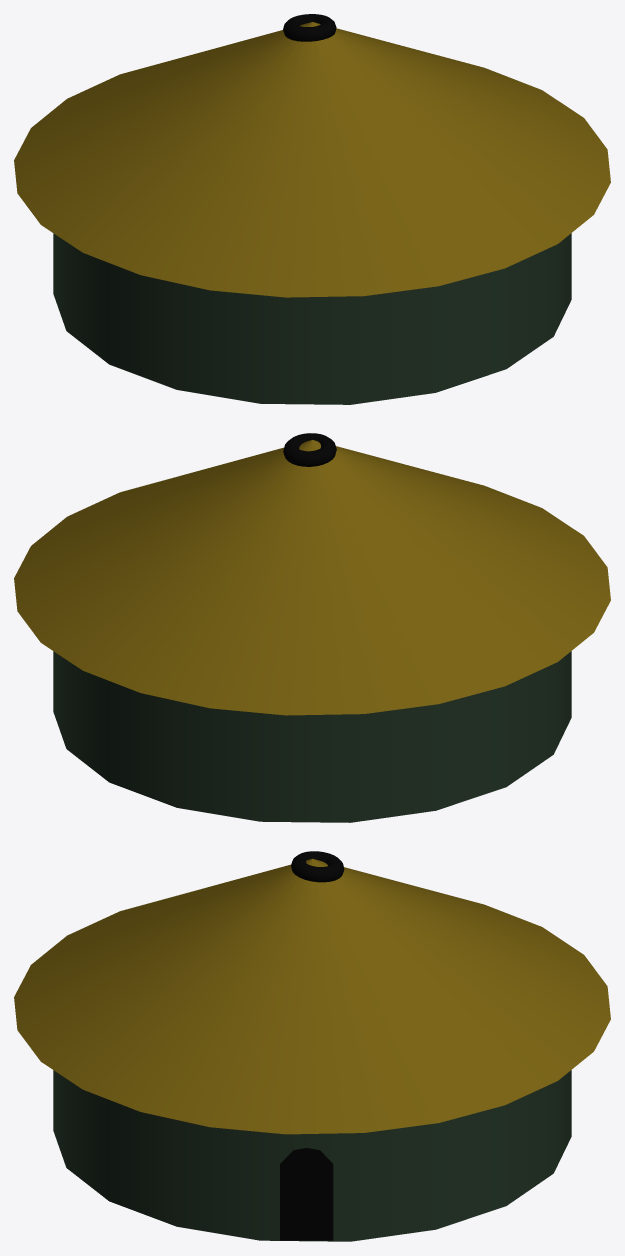
File: Round Hut.fbx
The picture shows the model from 3 angles, top to bottom: view 1: azimuth 30°, elevation 25°; view 2: azimuth 150°, elevation 25°; view 3: azimuth 270°, elevation 25°; orthographic projection.
Visible parts, largest first — view 1: Cone001, Cylinder001, Torus001; view 2: Cone001, Cylinder001, Torus001; view 3: Cone001, Cylinder001, Plane001, Torus001.
Part boxes in pixels (<box>): Cone001: <box>14,22,610,297</box>; Cylinder001: <box>53,233,571,404</box>; Torus001: <box>283,14,336,41</box>; Cone001: <box>14,440,610,715</box>; Cylinder001: <box>53,651,571,822</box>; Torus001: <box>283,433,336,466</box>; Cone001: <box>14,858,610,1134</box>; Cylinder001: <box>53,1070,571,1241</box>; Plane001: <box>280,1148,333,1240</box>; Torus001: <box>291,851,344,882</box>.
Bounding box in the file's own units: 145 × 73.55 × 145.
